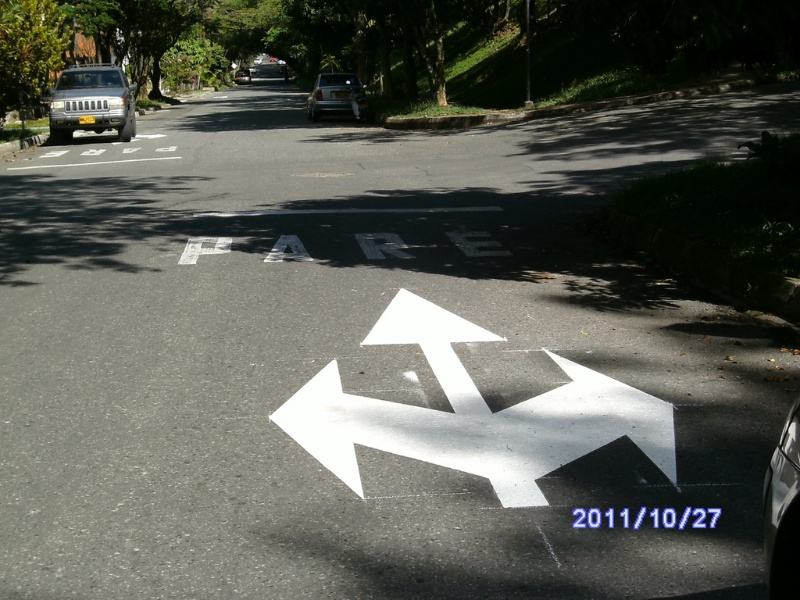left_direction: (262, 348, 424, 512)
right_direction: (522, 338, 690, 491)
straight_direction: (350, 280, 516, 383)
